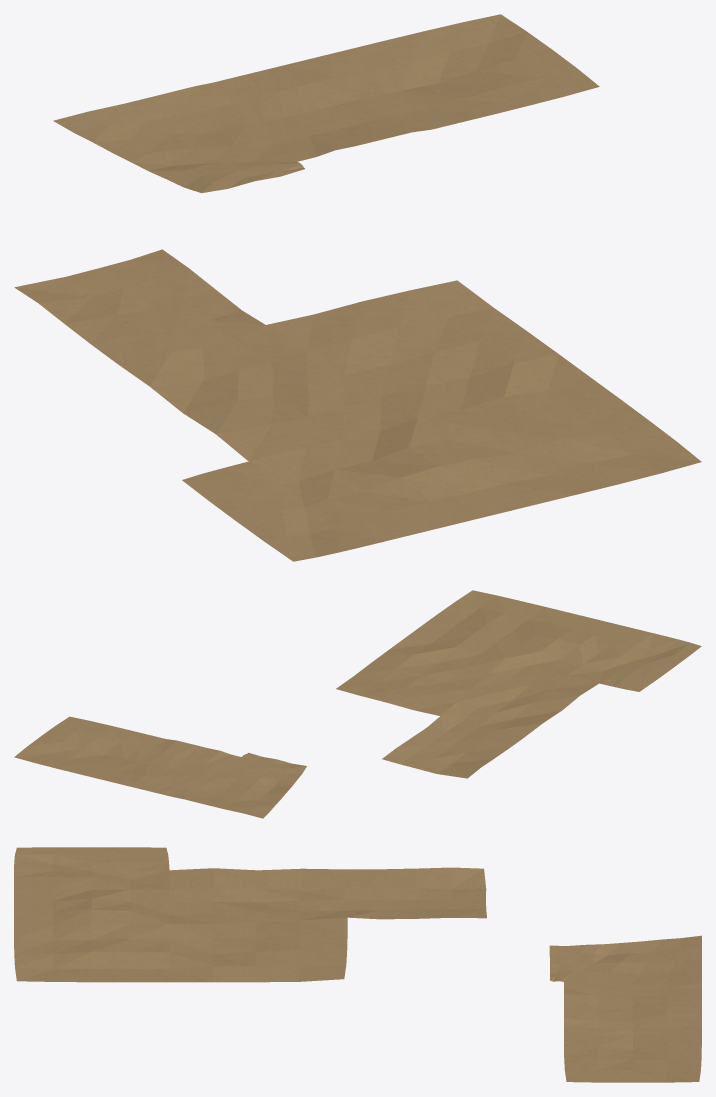
File: SM_ENV_KNVLLG_ground_09.mo.fbx
The picture shows the model from 3 angles, top to bottom: view 1: azimuth 30°, elevation 25°; view 2: azimuth 150°, elevation 25°; view 3: azimuth 270°, elevation 25°; orthographic projection. The views are drawn at different scales.
Parts seen in each view (by area): view 1: SM_ENV_KNVLLG_ground_09.mo; view 2: SM_ENV_KNVLLG_ground_09.mo; view 3: SM_ENV_KNVLLG_ground_09.mo.
Boxes of the visible parts, box(x1,y1,x2,y2) form: SM_ENV_KNVLLG_ground_09.mo: box(14, 14, 701, 561); SM_ENV_KNVLLG_ground_09.mo: box(14, 590, 701, 818); SM_ENV_KNVLLG_ground_09.mo: box(14, 847, 701, 1082).
Bounding box in the file's own units: 70.96 × 1.02 × 87.57.
